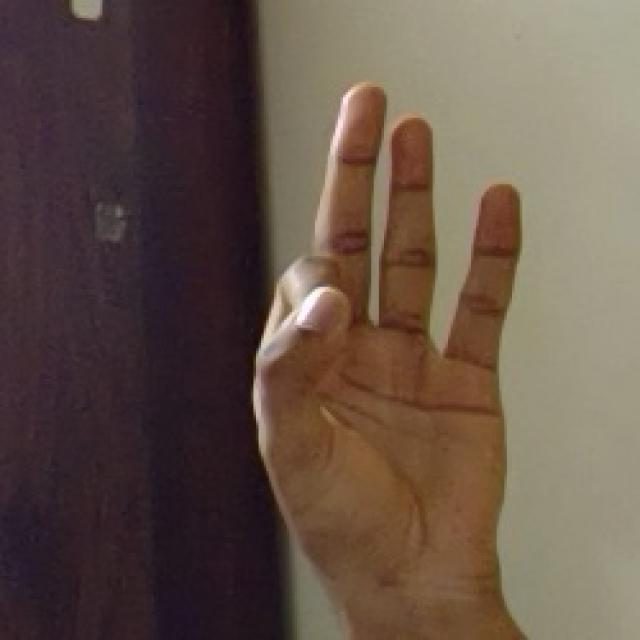Numeric-9: (251, 73, 522, 598)
